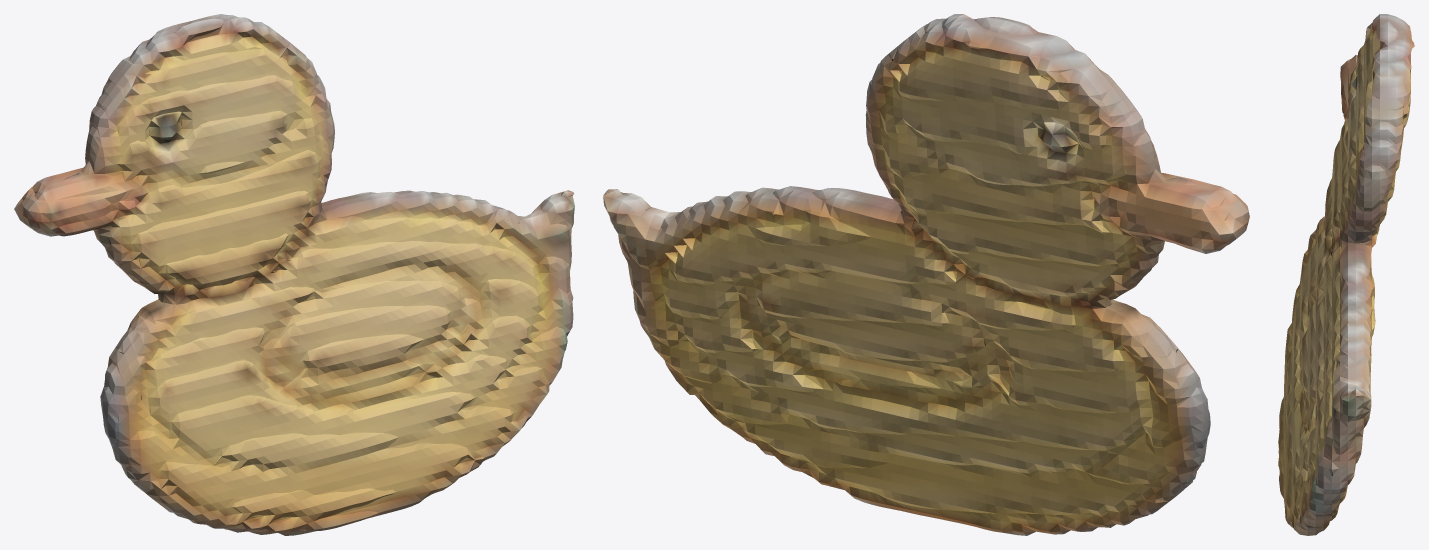
3 views of the same model, side by side, from view 1: azimuth 30°, elevation 25°; view 2: azimuth 150°, elevation 25°; view 3: azimuth 270°, elevation 25° (orthographic). The views are drawn at different scales.
Visible parts, largest first — view 1: world; view 2: world; view 3: world.
Part boxes in pixels (x1,y1,x2,y2): world: (14,14,574,535); world: (603,14,1249,535); world: (1278,14,1414,535).
Size of the model in its own units: 0.9475 by 0.8041 by 0.2331.
Materials: 1 (1 with a texture image).
